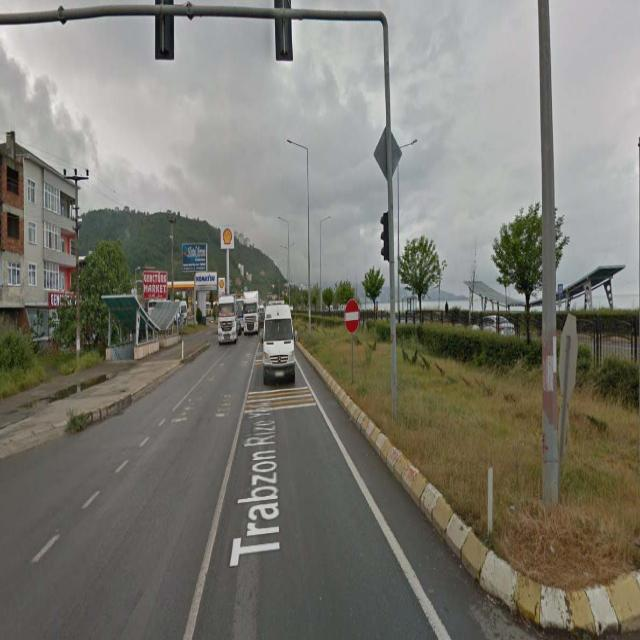girisyok: (346, 300, 358, 332)
